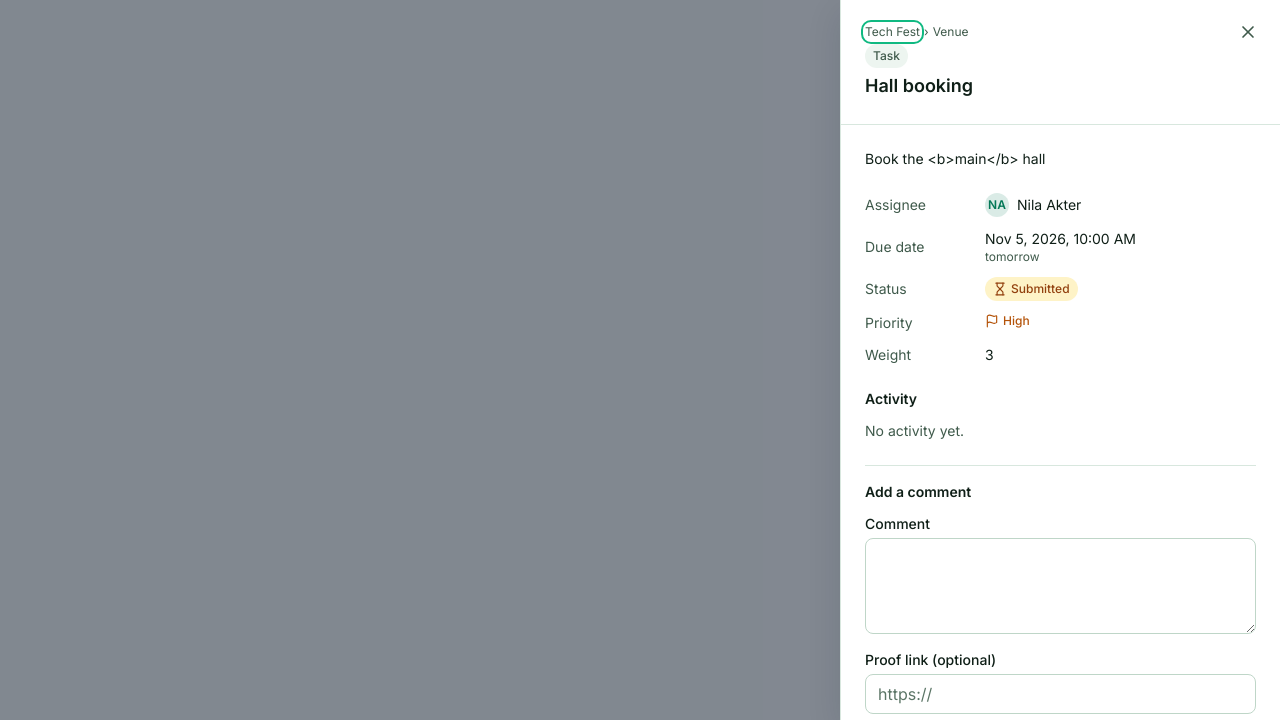
Test case: Comment composer › rejects a link that is not http(s)
Type "ftp://example.com" into the field labelled "Proof link (optional)" at point(1060, 694), box [865,674,1256,714]
(page scrolled)
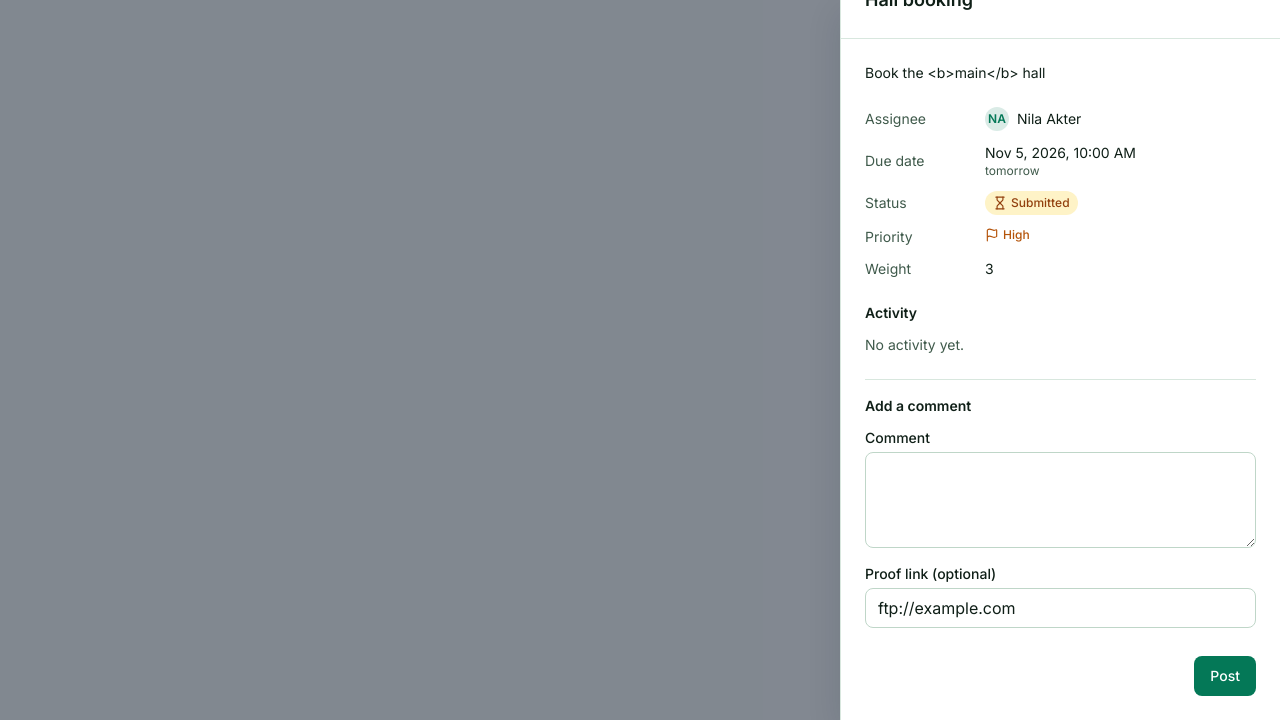
Click the button "Post" at point(1225, 676), box [1194,656,1256,696]
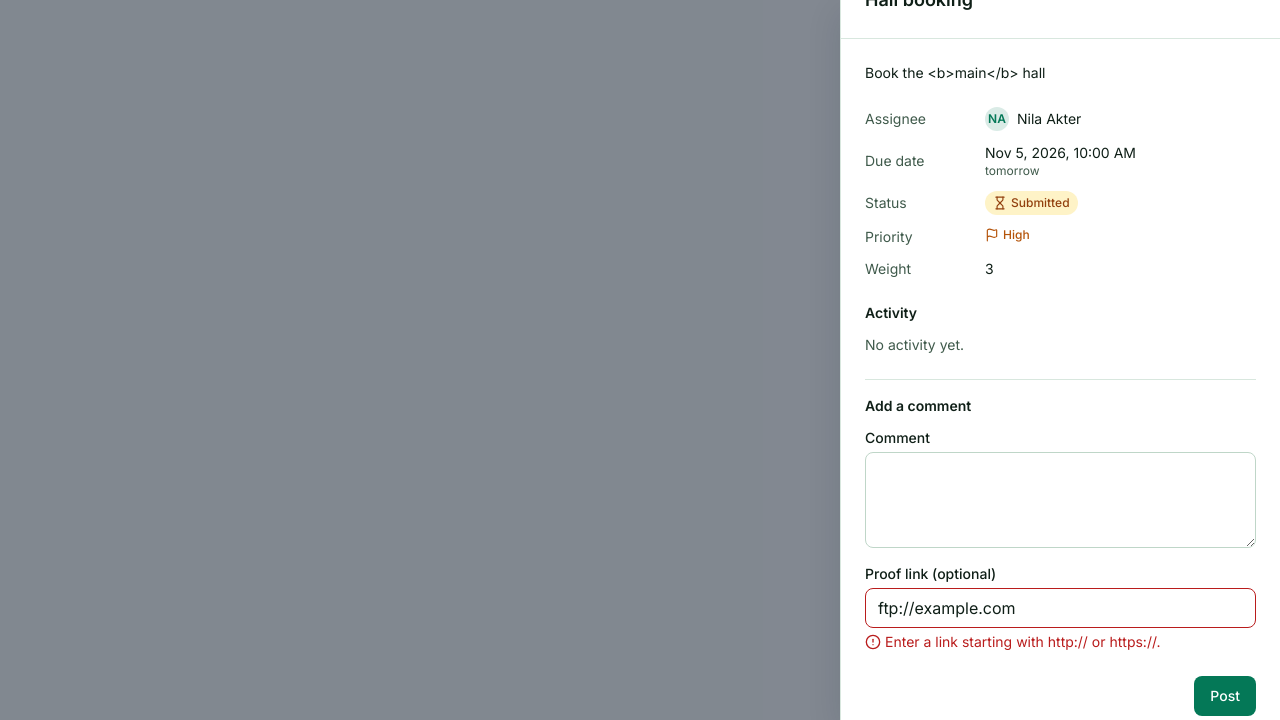
Expected: the text "Enter a link starting with http:// or https://." is shown, [865,633,1160,650]
